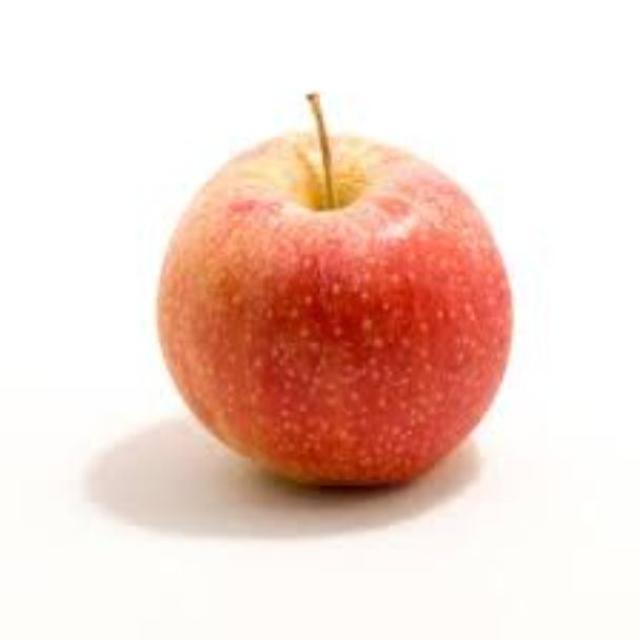Healty Apple: (145, 112, 533, 501)
